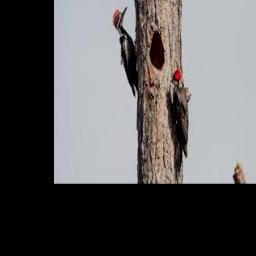Woodpecker: (112, 5, 138, 96), (170, 69, 189, 183)
